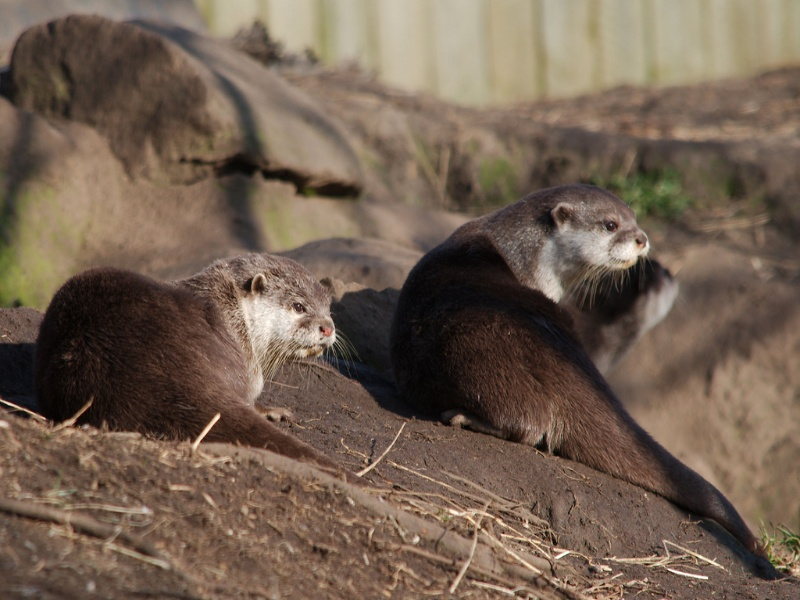minkish: (378, 184, 785, 580), (35, 248, 343, 452), (563, 258, 683, 370)
